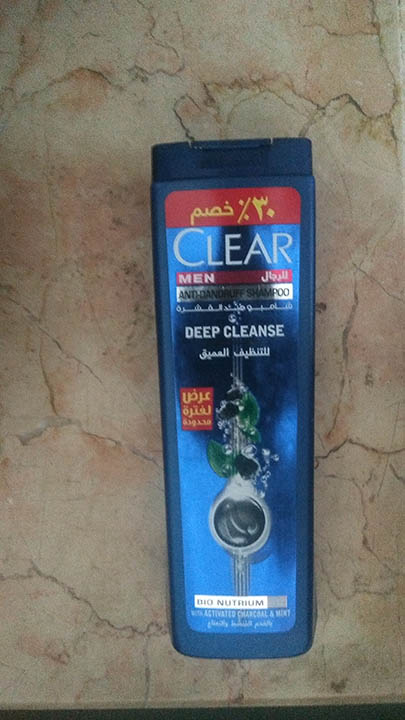Shampoo-Clear 4.7$: (135, 121, 352, 677)
